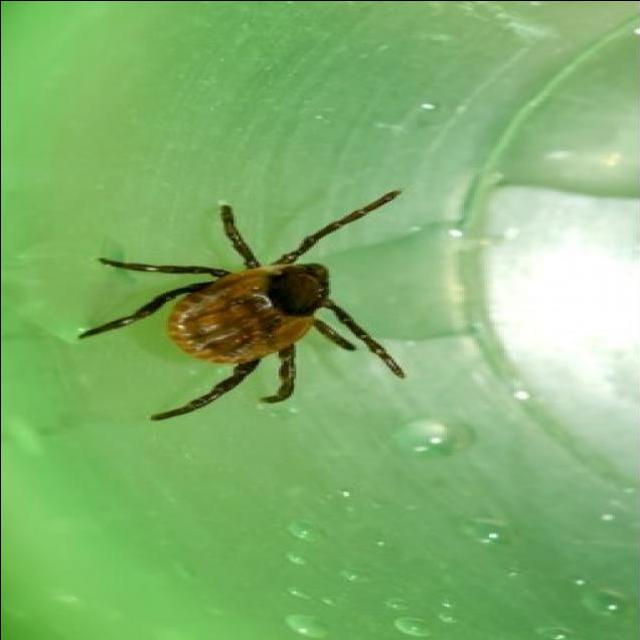Rhipicephalus Sanguineus-F: (83, 190, 406, 418)
